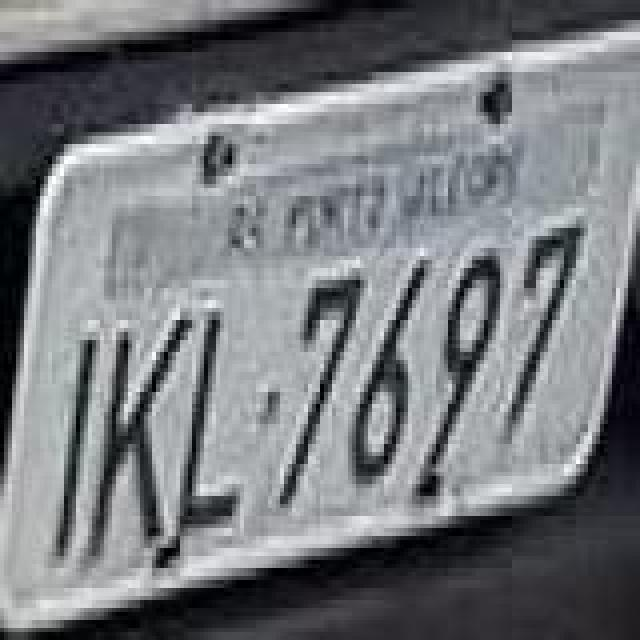1: (54, 334, 98, 562)
6: (350, 264, 434, 480)
7: (276, 280, 364, 520), (506, 224, 582, 432)
9: (422, 252, 506, 468)
K: (84, 310, 196, 570)
L: (176, 310, 240, 538)
